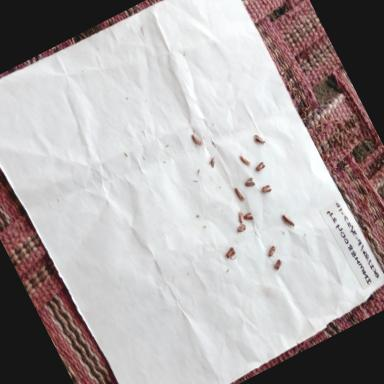pbw: (278, 207, 299, 234), (248, 154, 270, 178), (238, 170, 258, 194), (236, 150, 255, 172), (232, 184, 250, 206), (223, 244, 241, 263), (258, 181, 276, 199), (251, 130, 267, 150), (234, 208, 250, 226), (189, 130, 204, 148), (235, 220, 251, 236), (264, 243, 280, 259), (206, 152, 220, 170), (271, 256, 286, 272), (242, 209, 255, 224)
